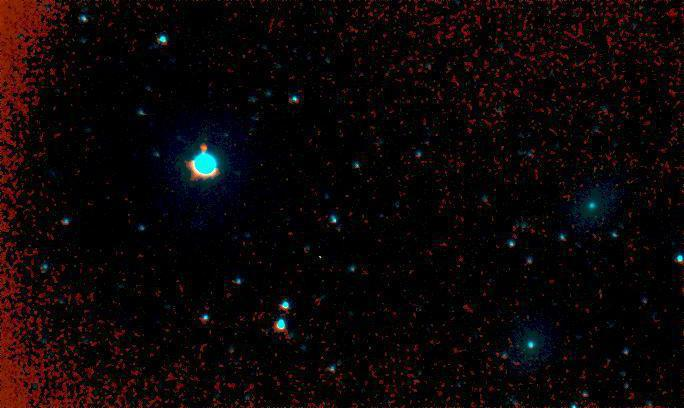star: (191, 135, 221, 165)
